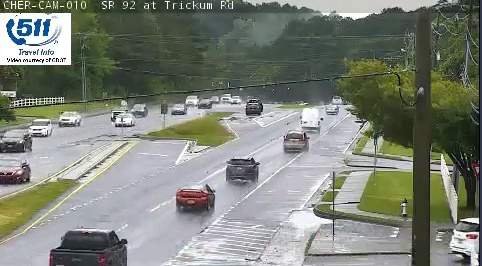car: (50, 229, 127, 266), (176, 183, 215, 207), (225, 157, 258, 179), (283, 131, 308, 150)
van: (301, 107, 320, 132)
